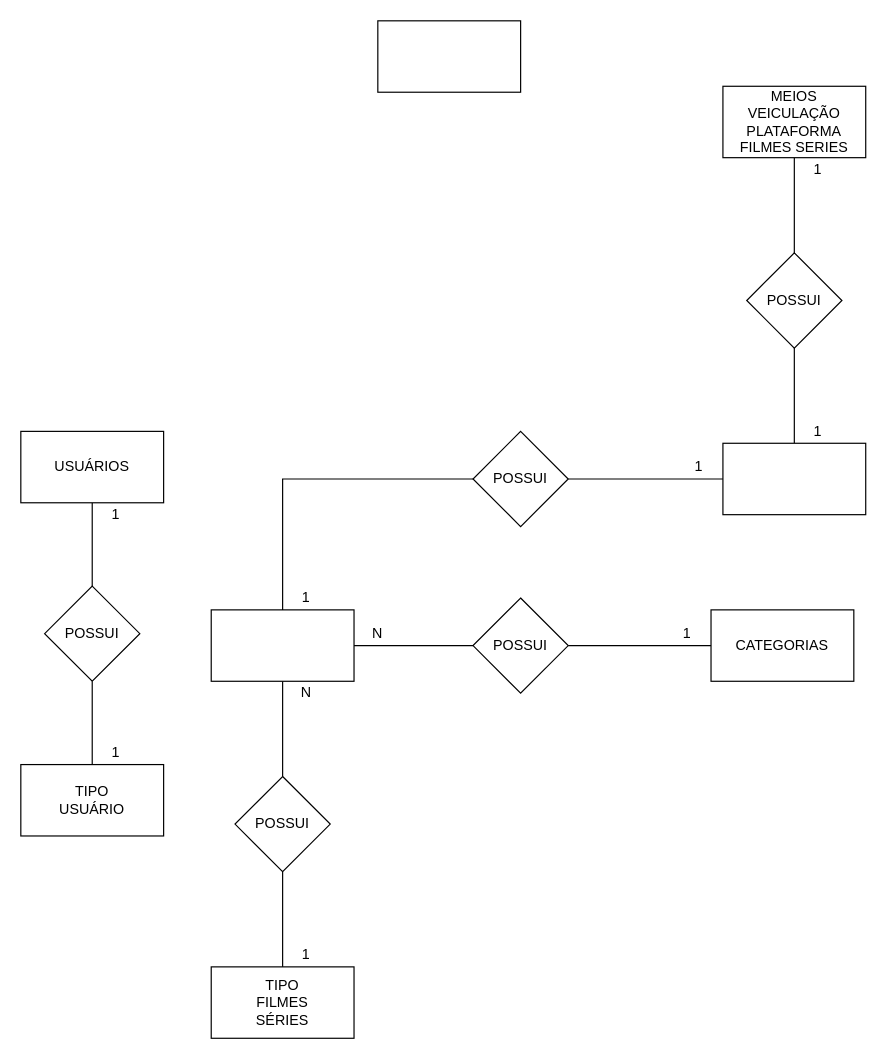
Some shapes in this 887 by 1059 pixel diagram are drawn without their labels. Here are the shapes that lost their labels. From the top down, the centre of each, then its label:
At point 449,56: "CONCEITUAL".
At point 794,478: "MEIOS VEICULAÇÃO PLATAFORMA".
At point 282,645: "FILMES SÉRIES".
